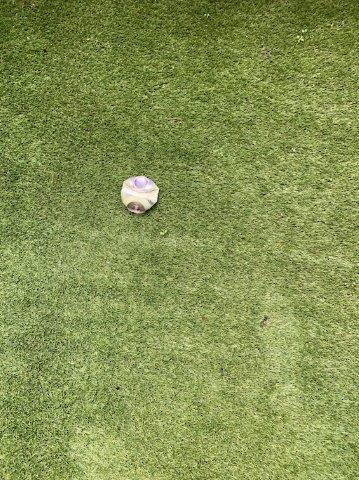kaleng: (121, 176, 158, 212)
